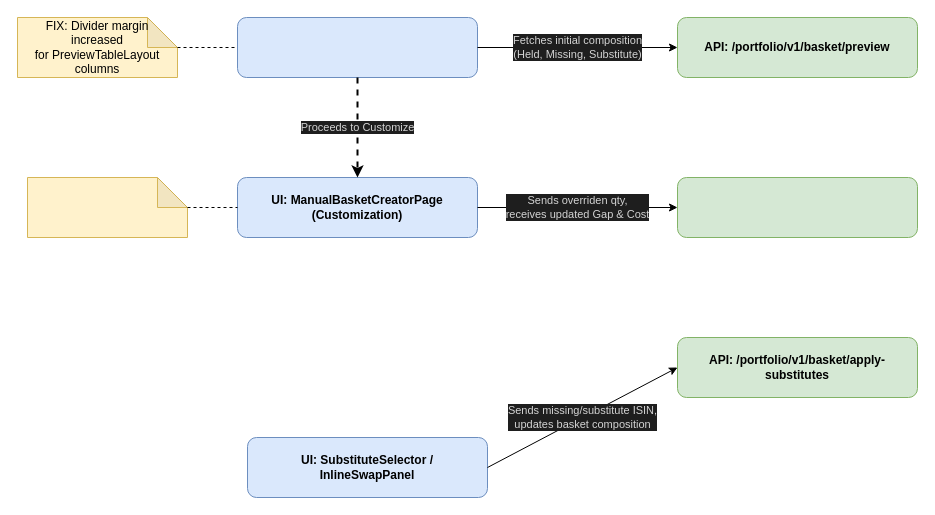
Image size: 935x515. Some labels were removed from this diagram. The centre of each missing label's shape, as x and y in pixels:
"API: /portfolio/v1/basket/calculate-quantities" goes at point 797,207.
"FIX: Gap updates dynamically based on allocatedQty instead of heldQty" goes at point 107,207.
"UI: BasketPreviewPage" goes at point 357,47.
